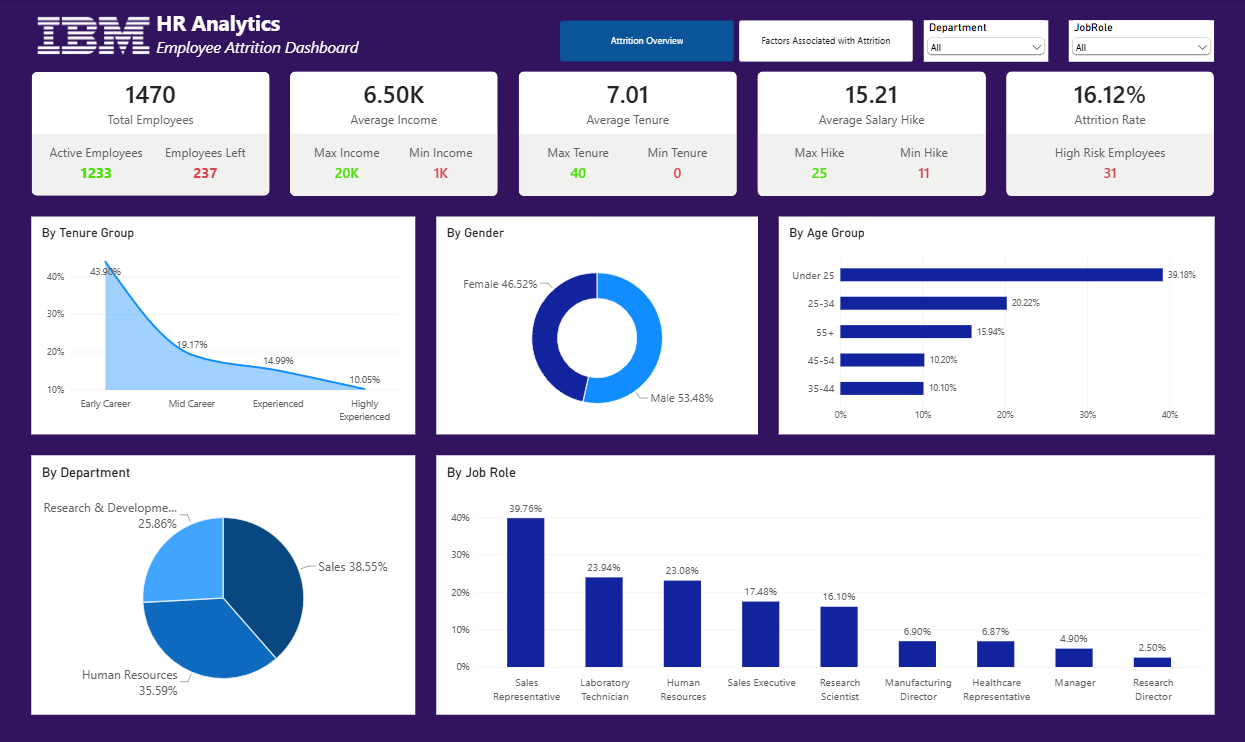

Layout of this report page (visuals, bound fields, positions):
{"tool":"powerbi","page":{"name":"Attrition Overview","canvas":[1920,1150],"ordinal":0},"visuals":[{"type":"cardVisual","fields":{"Data":["Count(Employee.EmployeeNumber)"]},"box":[48,112,368,192],"z":0},{"type":"cardVisual","fields":{"Data":["Avg(Employee.MonthlyIncome)"]},"box":[448,112,320,192],"z":1000},{"type":"cardVisual","fields":{"Data":["Avg(Employee.YearsAtCompany)"]},"box":[800,112,336,192],"z":2000},{"type":"cardVisual","fields":{"Data":["Avg(Employee.PercentSalaryHike)"]},"box":[1168,112,352,192],"z":3000},{"type":"cardVisual","fields":{"Data":["_Measure.Attrition Rate"]},"box":[1552,112,320,192],"z":4000},{"type":"pieChart","title":"By Department","fields":{"Category":["Employee.Department"],"Y":["_Measure.Attrition Rate"]},"box":[48,704,592,400],"z":5000},{"type":"areaChart","title":"By Tenure Group","fields":{"Category":["Employee.Tenure Group"],"Y":["_Measure.Attrition Rate"]},"box":[48,336,592,336],"z":6000},{"type":"clusteredBarChart","title":"By Age Group","fields":{"Category":["Employee.Age Group"],"Y":["_Measure.Attrition Rate"]},"box":[1200,336,672,336],"z":7000},{"type":"donutChart","title":"By Gender","fields":{"Category":["Employee.Gender"],"Y":["_Measure.Attrition Rate"]},"box":[672,336,496,336],"z":8000},{"type":"clusteredColumnChart","title":"By Job Role","fields":{"Category":["Employee.JobRole"],"Y":["_Measure.Attrition Rate"]},"box":[672,704,1200,400],"z":9000},{"type":"image","box":[48,16,192,80],"z":10000},{"type":"textbox","box":[96,96,720,80],"z":11000},{"type":"textbox","box":[240,16,336,96],"z":12000},{"type":"slicer","fields":{"Values":["Employee.Department"]},"box":[1424,32,192,64],"z":13000},{"type":"slicer","fields":{"Values":["Employee.JobRole"]},"box":[1648,32,224,64],"z":14000},{"type":"pageNavigator","box":[864,32,544,64],"z":15000}]}

Visuals, with their boxes in screenshot pixels (x1, y1, x2, y2), scaled from the page's 1920x1150 canvas onto the 1245x742 screenshot:
cardVisual - Count(Employee.EmployeeNumber): <bbox>31, 72, 270, 196</bbox>
cardVisual - Avg(Employee.MonthlyIncome): <bbox>290, 72, 498, 196</bbox>
cardVisual - Avg(Employee.YearsAtCompany): <bbox>519, 72, 737, 196</bbox>
cardVisual - Avg(Employee.PercentSalaryHike): <bbox>757, 72, 986, 196</bbox>
cardVisual - _Measure.Attrition Rate: <bbox>1006, 72, 1214, 196</bbox>
"By Department" pieChart: <bbox>31, 454, 415, 712</bbox>
"By Tenure Group" areaChart: <bbox>31, 217, 415, 434</bbox>
"By Age Group" clusteredBarChart: <bbox>778, 217, 1214, 434</bbox>
"By Gender" donutChart: <bbox>436, 217, 757, 434</bbox>
"By Job Role" clusteredColumnChart: <bbox>436, 454, 1214, 712</bbox>
image: <bbox>31, 10, 156, 62</bbox>
textbox: <bbox>62, 62, 529, 114</bbox>
textbox: <bbox>156, 10, 374, 72</bbox>
slicer - Employee.Department: <bbox>923, 21, 1048, 62</bbox>
slicer - Employee.JobRole: <bbox>1069, 21, 1214, 62</bbox>
pageNavigator: <bbox>560, 21, 913, 62</bbox>
